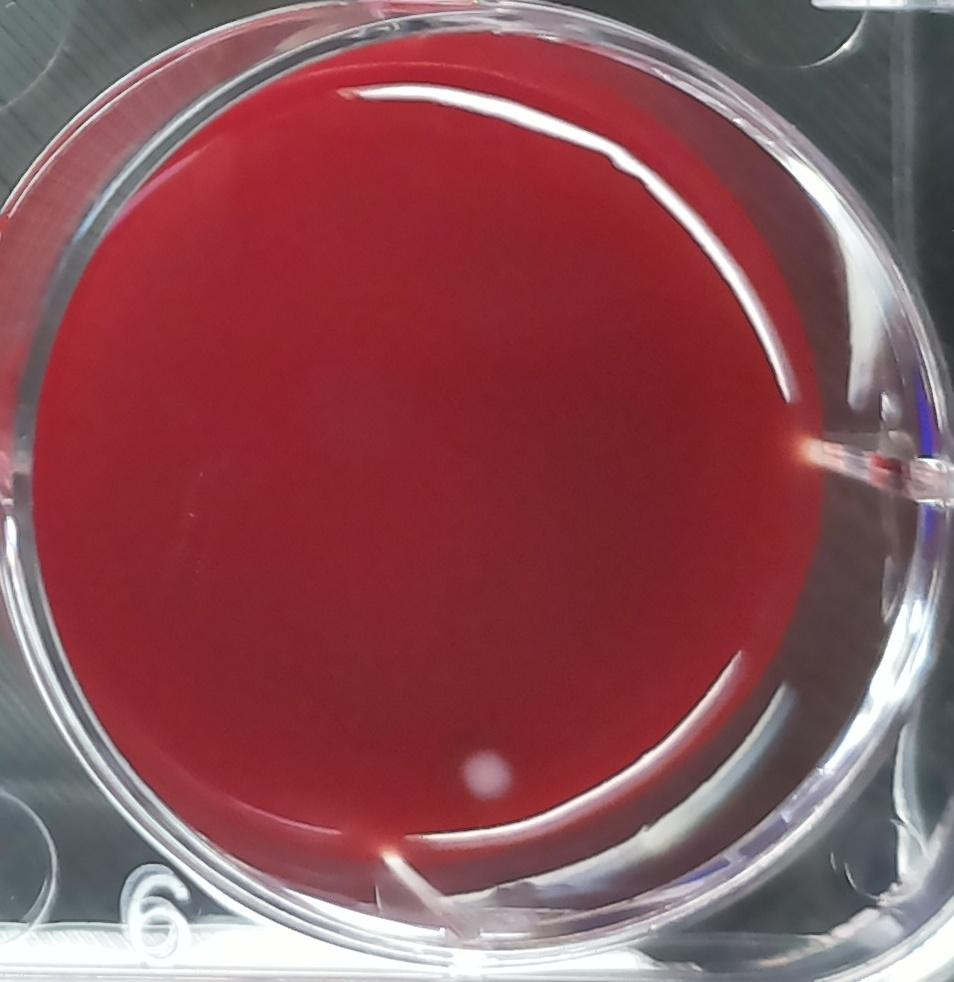staphylo-: (440, 725, 530, 816)
